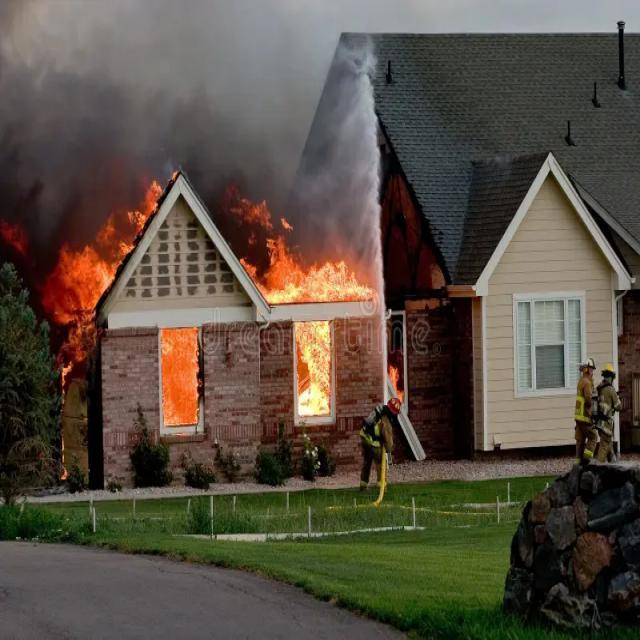Fire: (230, 178, 380, 421), (41, 169, 166, 369), (159, 328, 214, 438)
Smoke: (2, 0, 378, 291)
